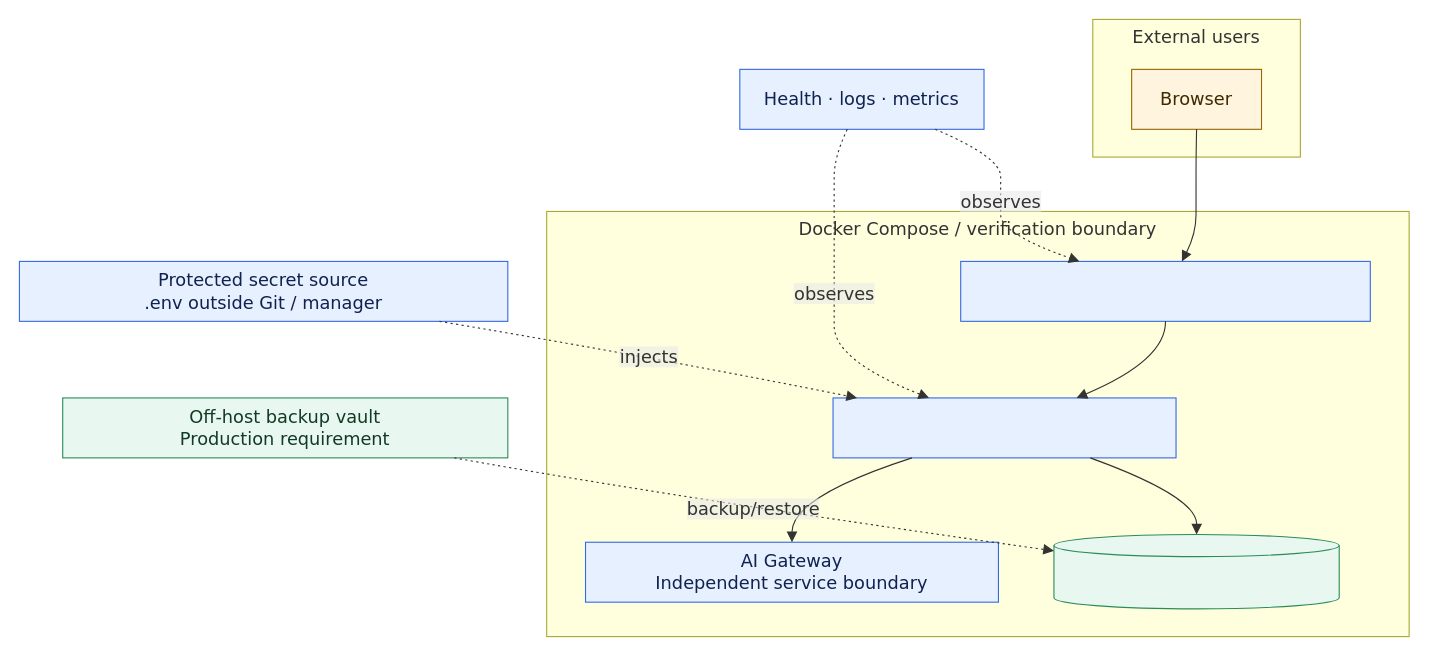
Some shapes in this 1429 by 656 pixel diagram are drawn without their labels. The centre of each missing label's shape, as x and y in pixels:
"Backend image FastAPI + Alembic" belongs at (x=1004, y=427).
"Frontend image Nginx + immutable assets" belongs at (x=1165, y=290).
"PostgreSQL 17 Persistent volume" belongs at (x=1196, y=571).
